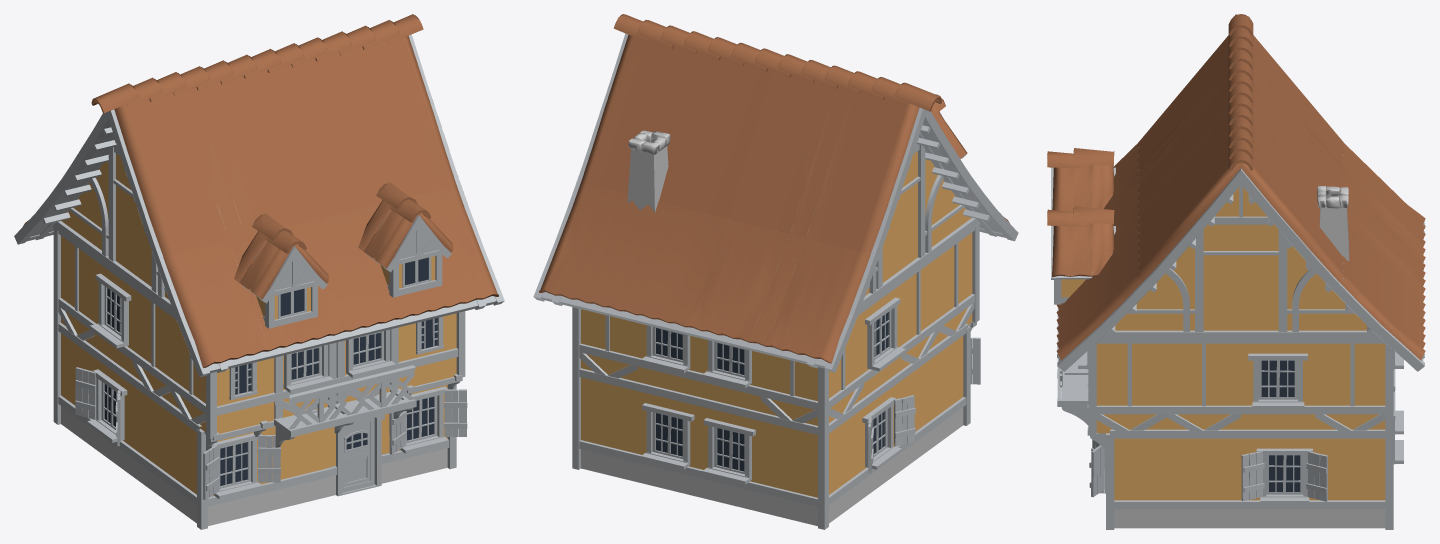
Rendered from townhouse_balcony.gltf.
3 views of the same model, side by side, from view 1: azimuth 30°, elevation 25°; view 2: azimuth 150°, elevation 25°; view 3: azimuth 270°, elevation 25° (orthographic). The views are drawn at different scales.
Visible parts, largest first — view 1: Roof_RoundTiles_8x8.079, Roof_Front_Brick8.080, Roof_Dormer_RoundTile.083, Roof_Dormer_RoundTile.082, Wall_Plaster_Straight_Base.004, Wall_Plaster_Straight_Base.021, Wall_Plaster_Straight+upper.061, Wall_Plaster_Straight+upper.058, Wall_Plaster_Straight_Base.022, Wall_Plaster_Window_Thin_Round+upper.044, Wall_Plaster_Window_Thin_Round+upper.050, Wall_Plaster_Straight_Base.017 (+29 smaller); view 2: Roof_RoundTiles_8x8.079, Roof_Front_Brick8.080, Wall_Plaster_Straight_Base.011, Wall_Plaster_Straight_Base.016, Wall_Plaster_Window_Wide_Flat.012, Wall_Plaster_Window_Wide_Flat.014, Wall_Plaster_Straight+upper.052, Wall_Plaster_Straight+upper.061, Wall_Plaster_Straight_Base.022, Wall_Plaster_Straight+upper.057, Wall_Plaster_Straight+upper.062, Wall_Plaster_Straight_Base.017 (+21 smaller); view 3: Roof_RoundTiles_8x8.079, Roof_Front_Brick8.081, Wall_Plaster_Straight+upper.064, Wall_Plaster_Straight_Base.024, Wall_Plaster_Straight_Base.023, Wall_Plaster_Straight+upper.063, Wall_Plaster_Straight+upper.067, Wall_Plaster_Straight_Base.028, Roof_Dormer_RoundTile.083, Wall_Plaster_Window_Wide_Flat+upper.065, Roof_Dormer_RoundTile.082, Wall_Plaster_Window_Wide_Flat.025 (+11 smaller).
Boxes of the visible parts, x1,y1,x2,y2 form: Roof_RoundTiles_8x8.079: (14, 14, 504, 377); Roof_Front_Brick8.080: (42, 127, 177, 321); Roof_Dormer_RoundTile.083: (358, 182, 453, 297); Roof_Dormer_RoundTile.082: (234, 213, 328, 328); Wall_Plaster_Straight_Base.004: (264, 426, 328, 512); Wall_Plaster_Straight_Base.021: (128, 373, 166, 500); Wall_Plaster_Straight+upper.061: (132, 285, 173, 404); Wall_Plaster_Straight+upper.058: (58, 231, 96, 348); Wall_Plaster_Straight_Base.022: (163, 400, 201, 523); Wall_Plaster_Window_Thin_Round+upper.044: (217, 358, 275, 433); Wall_Plaster_Window_Thin_Round+upper.050: (398, 313, 458, 389); Wall_Plaster_Straight_Base.017: (58, 323, 94, 448); Roof_RoundTiles_8x8.079: (533, 14, 1018, 372); Roof_Front_Brick8.080: (857, 125, 990, 317); Wall_Plaster_Straight_Base.011: (579, 368, 638, 482); Wall_Plaster_Straight_Base.016: (760, 412, 817, 526); Wall_Plaster_Window_Wide_Flat.012: (637, 382, 700, 497); Wall_Plaster_Window_Wide_Flat.014: (699, 397, 761, 512); Wall_Plaster_Straight+upper.052: (579, 309, 638, 382); Wall_Plaster_Straight+upper.061: (899, 254, 939, 371); Wall_Plaster_Straight_Base.022: (930, 323, 968, 449); Wall_Plaster_Straight+upper.057: (760, 353, 817, 425); Wall_Plaster_Straight+upper.062: (936, 228, 974, 343); Wall_Plaster_Straight_Base.017: (829, 401, 861, 523); Roof_RoundTiles_8x8.079: (1056, 14, 1425, 371); Roof_Front_Brick8.081: (1099, 185, 1382, 340); Wall_Plaster_Straight+upper.064: (1167, 340, 1240, 430); Wall_Plaster_Straight_Base.024: (1180, 429, 1249, 528); Wall_Plaster_Straight_Base.023: (1110, 429, 1179, 528); Wall_Plaster_Straight+upper.063: (1096, 340, 1166, 433); Wall_Plaster_Straight+upper.067: (1315, 340, 1385, 430); Wall_Plaster_Straight_Base.028: (1319, 429, 1385, 528); Roof_Dormer_RoundTile.083: (1047, 206, 1115, 304); Wall_Plaster_Window_Wide_Flat+upper.065: (1241, 340, 1315, 429); Roof_Dormer_RoundTile.082: (1047, 148, 1115, 211); Wall_Plaster_Window_Wide_Flat.025: (1249, 429, 1319, 528).
Size of the model in its own units: 10.33 by 12.13 by 10.84.
